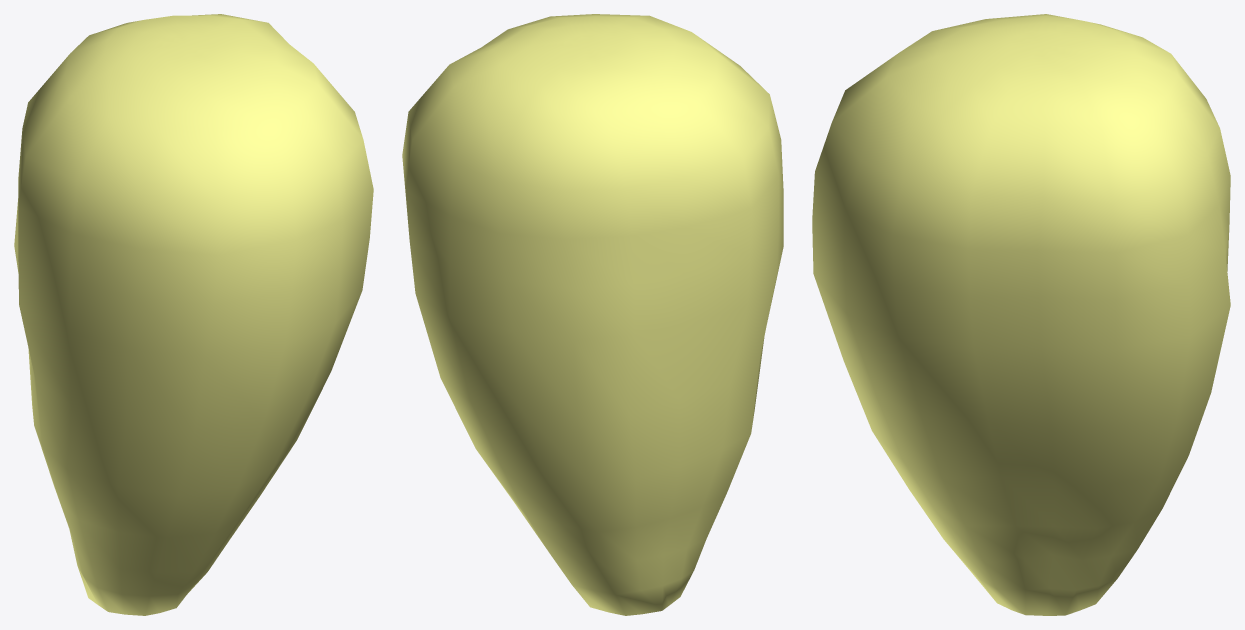
The model's file is MeshLettuceA9_0.obj.
3 views of the same model, side by side, from view 1: azimuth 30°, elevation 25°; view 2: azimuth 150°, elevation 25°; view 3: azimuth 270°, elevation 25° (orthographic). The views are drawn at different scales.
Visible parts, largest first — view 1: LettuceA9; view 2: LettuceA9; view 3: LettuceA9.
Boxes of the visible parts, left/top/right/bottom form: LettuceA9: left=14, top=14, right=373, bottom=615; LettuceA9: left=402, top=14, right=783, bottom=615; LettuceA9: left=812, top=14, right=1230, bottom=615.
Size of the model in its own units: 0.1473 by 0.244 by 0.1579.
